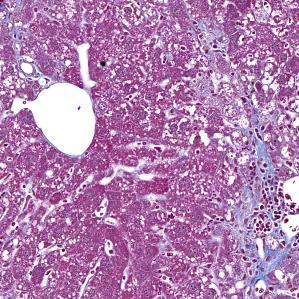fibrosis: (233, 116, 286, 258)
